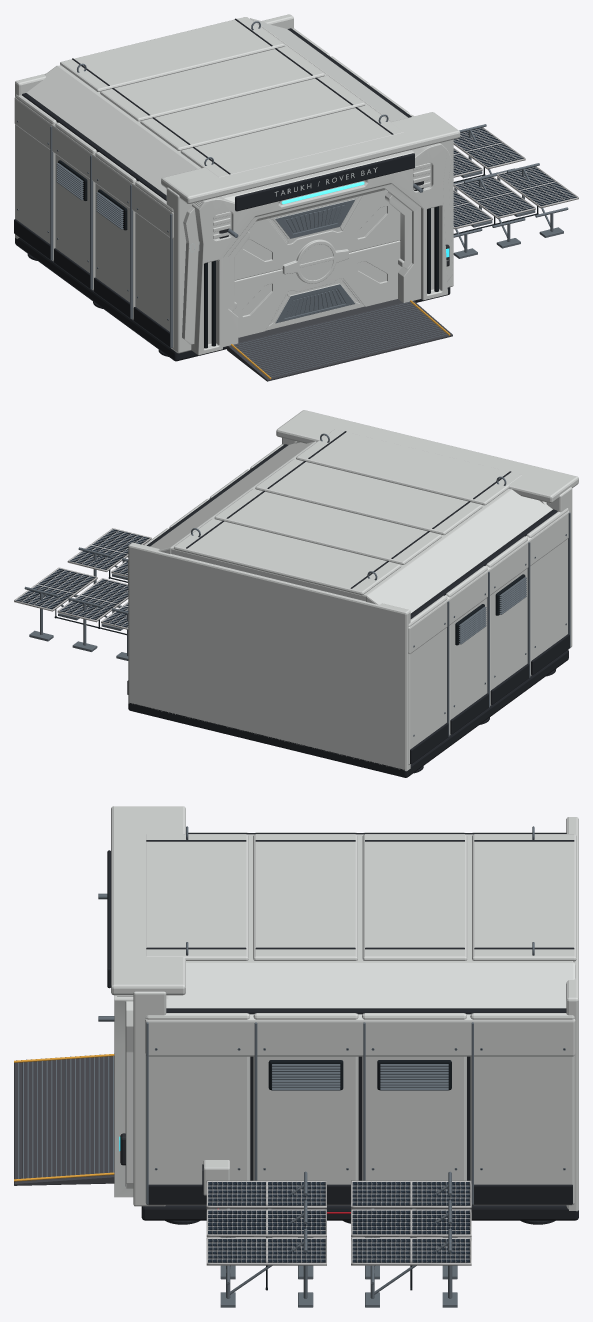
Rendered from garage.glb.
3 renders of one model, top to bottom at view 1: azimuth 30°, elevation 25°; view 2: azimuth 150°, elevation 25°; view 3: azimuth 270°, elevation 25°, orthographic. The views are drawn at different scales.
Visible parts, largest first — view 1: Door side collar, Adjustable foundation foot, Source_door_Object_5, Driveable shallow approach ramp, SUPPLIED_SOLAR_PANEL_01, Source_door_Object_4, Exterior removable panel locks, Ceiling pressure deck; view 2: Door side collar, Adjustable foundation foot, SUPPLIED_SOLAR_PANEL_01, Ceiling pressure deck, Exterior removable panel locks; view 3: Door side collar, Adjustable foundation foot, SUPPLIED_SOLAR_PANEL_01, Driveable shallow approach ramp, Ceiling pressure deck, Exterior removable panel locks.
Boxes of the visible parts, box(x1,y1,x2,y2) form: Door side collar: box(14, 14, 460, 355); Adjustable foundation foot: box(14, 18, 568, 377); Source_door_Object_5: box(232, 190, 401, 337); Driveable shallow approach ramp: box(226, 299, 452, 381); SUPPLIED_SOLAR_PANEL_01: box(453, 127, 578, 229); Source_door_Object_4: box(275, 199, 355, 323); Exterior removable panel locks: box(17, 121, 538, 348); Ceiling pressure deck: box(59, 19, 390, 168); Door side collar: box(128, 410, 578, 771); Adjustable foundation foot: box(24, 431, 570, 777); SUPPLIED_SOLAR_PANEL_01: box(14, 528, 151, 629); Ceiling pressure deck: box(171, 441, 510, 601); Exterior removable panel locks: box(54, 557, 566, 713); Door side collar: box(111, 806, 578, 1211); Adjustable foundation foot: box(18, 826, 578, 1307); SUPPLIED_SOLAR_PANEL_01: box(206, 1180, 471, 1265); Driveable shallow approach ramp: box(14, 1054, 114, 1185); Ceiling pressure deck: box(186, 835, 574, 962); Exterior removable panel locks: box(156, 1049, 564, 1290).
Bounding box in the file's own units: 14.92 × 6.04 × 12.4.
16 materials, 1 textured.
